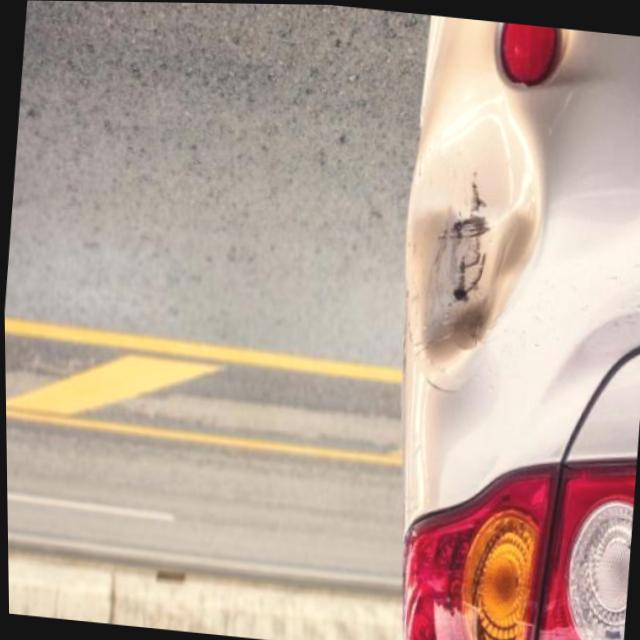Dent: (398, 83, 549, 367)
Scratch: (437, 171, 491, 306)
